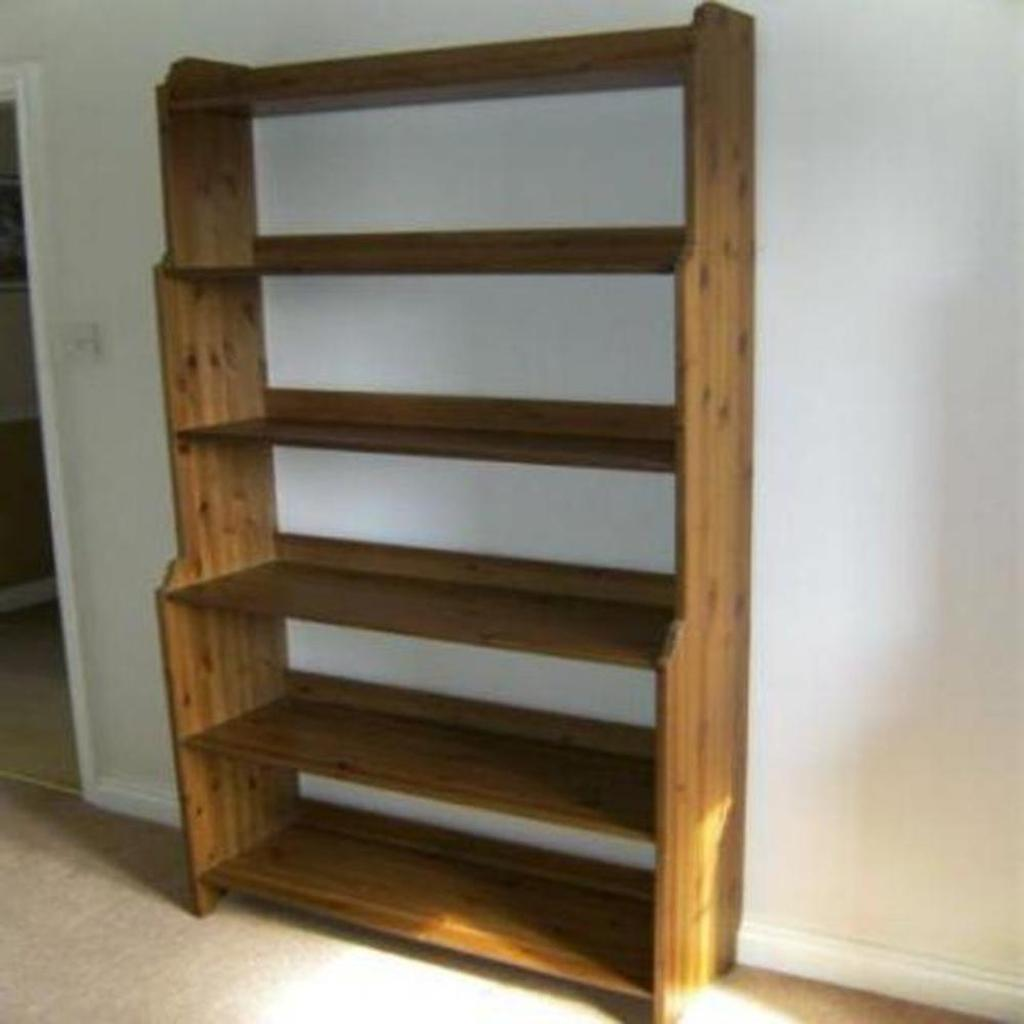lamp: (151, 0, 765, 1022)
